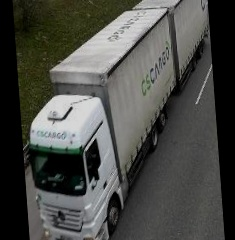truck: (17, 0, 224, 240)
